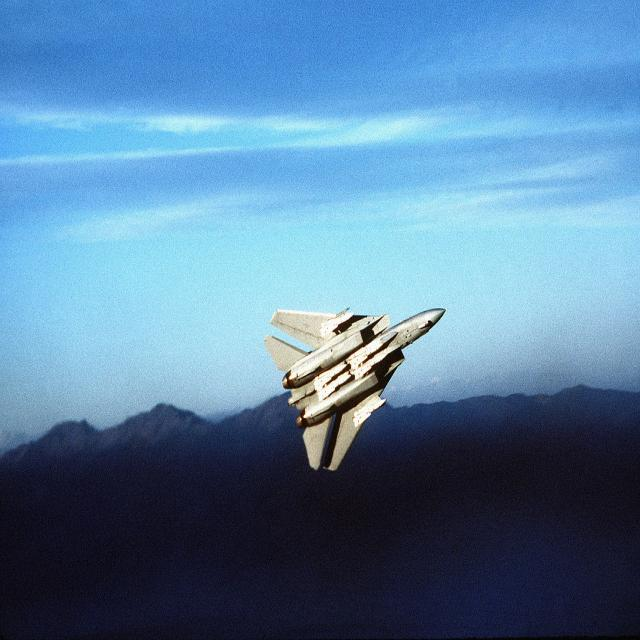MIL_Plane: (264, 307, 446, 471)
